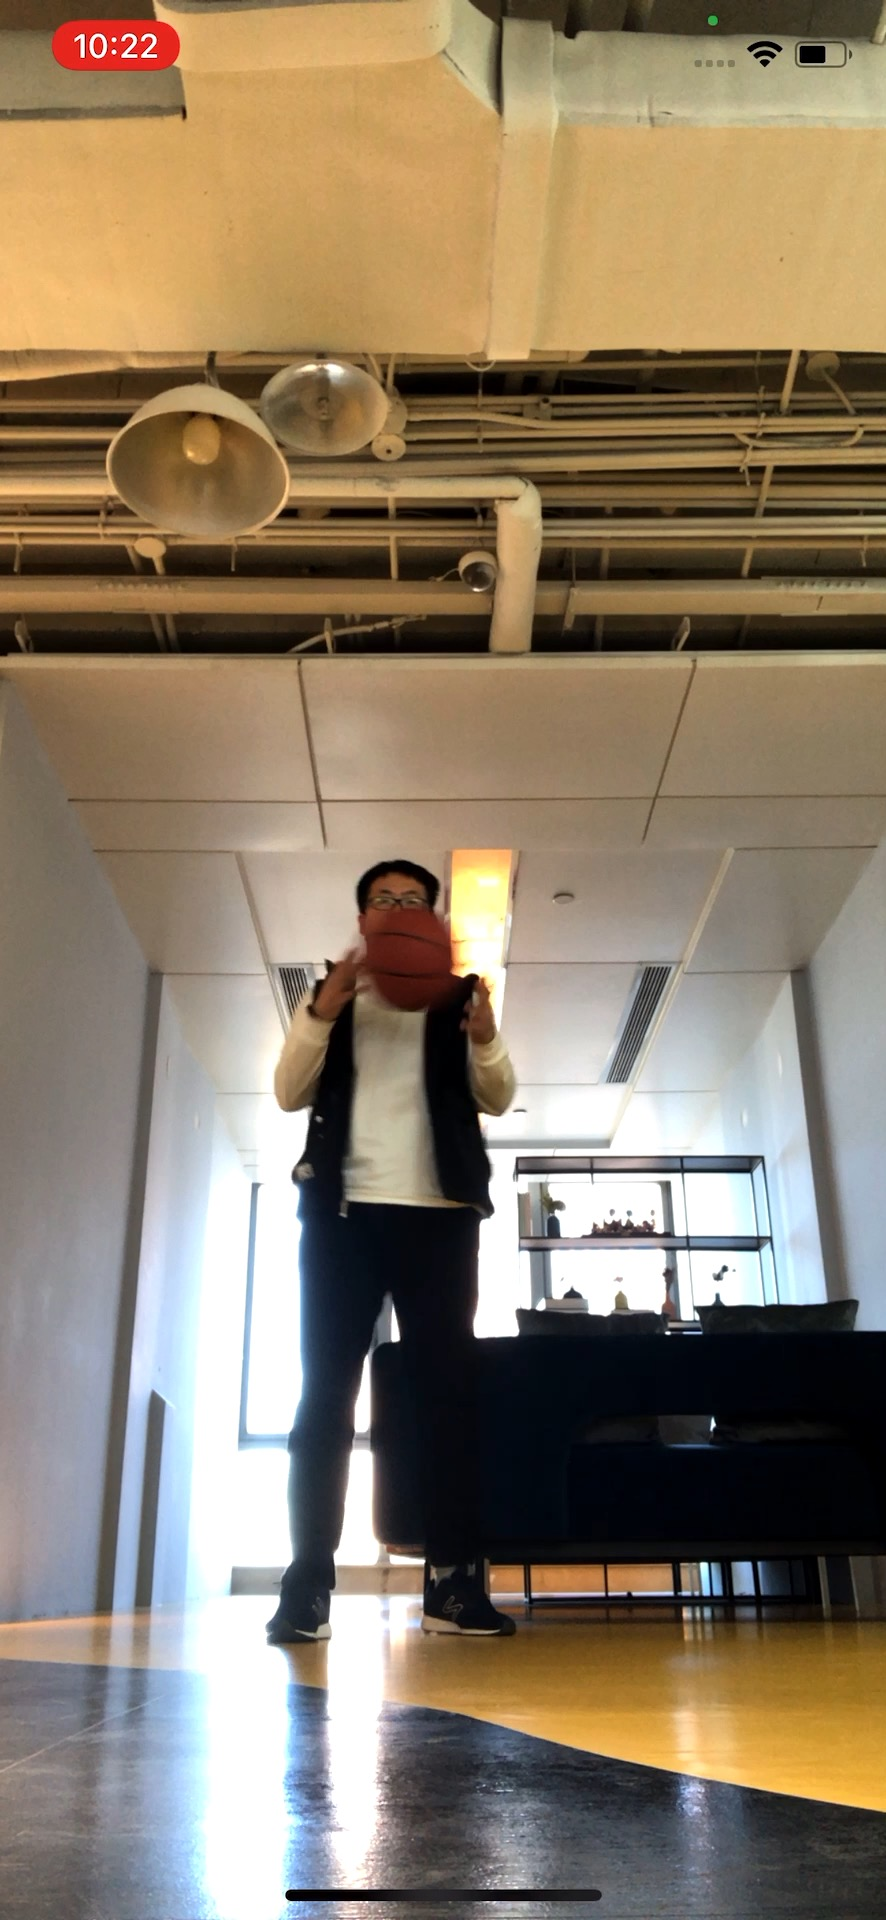ball: (359, 906, 456, 1014)
